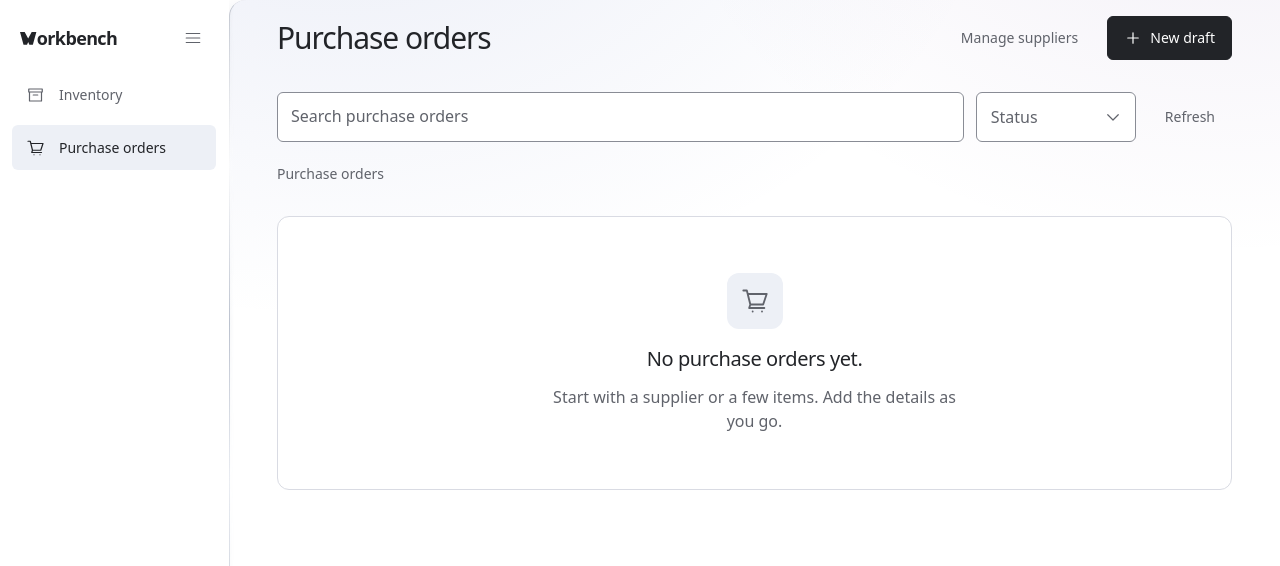
Test: opens purchase orders and replaces a new draft URL after its receipt without losing current-read recovery
Expected: the heading "No purchase orders yet." is shown, [647,345,862,373]
Click the link "New draft". click: x=1170, y=38
box: [1107,16,1232,60]
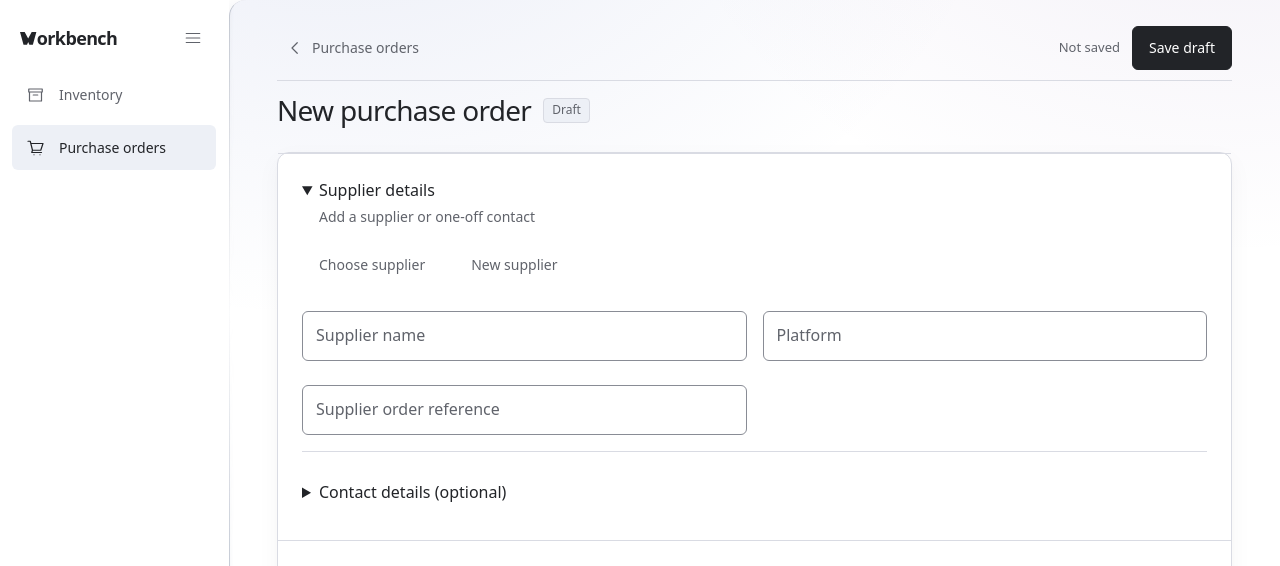
Click the button "Save draft". click: x=1182, y=48
box: [1132,26,1232,70]
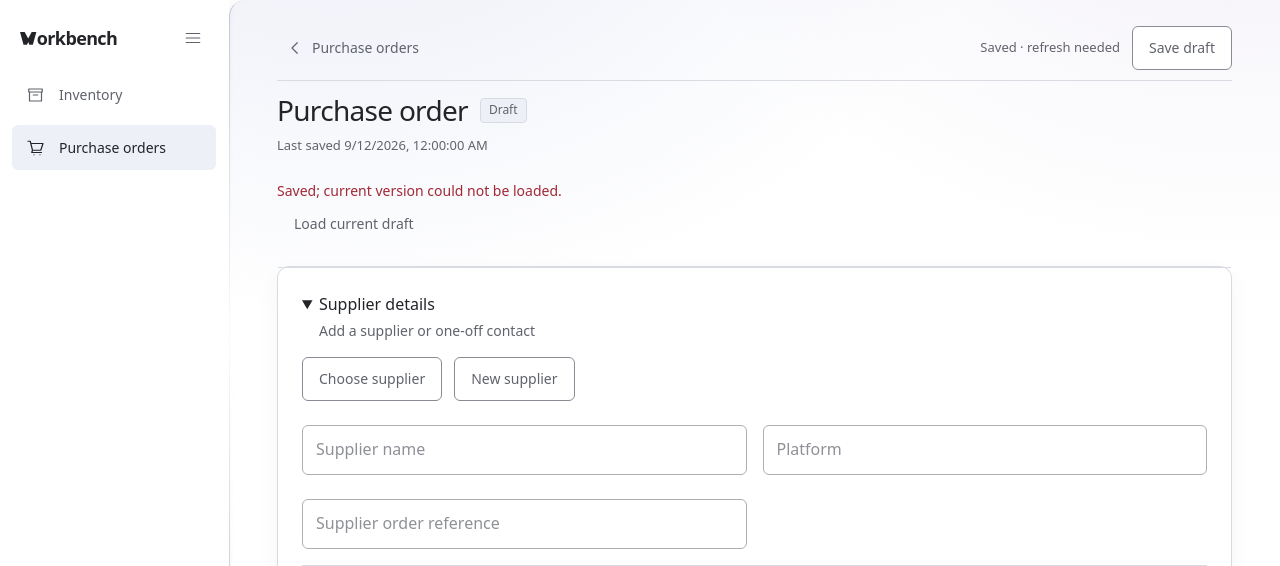
Expected: the text "Saved; current version could not be loaded." is shown, [277,180,562,200]
Click the button "Load current draft". click: x=354, y=224
box: [277,202,431,246]
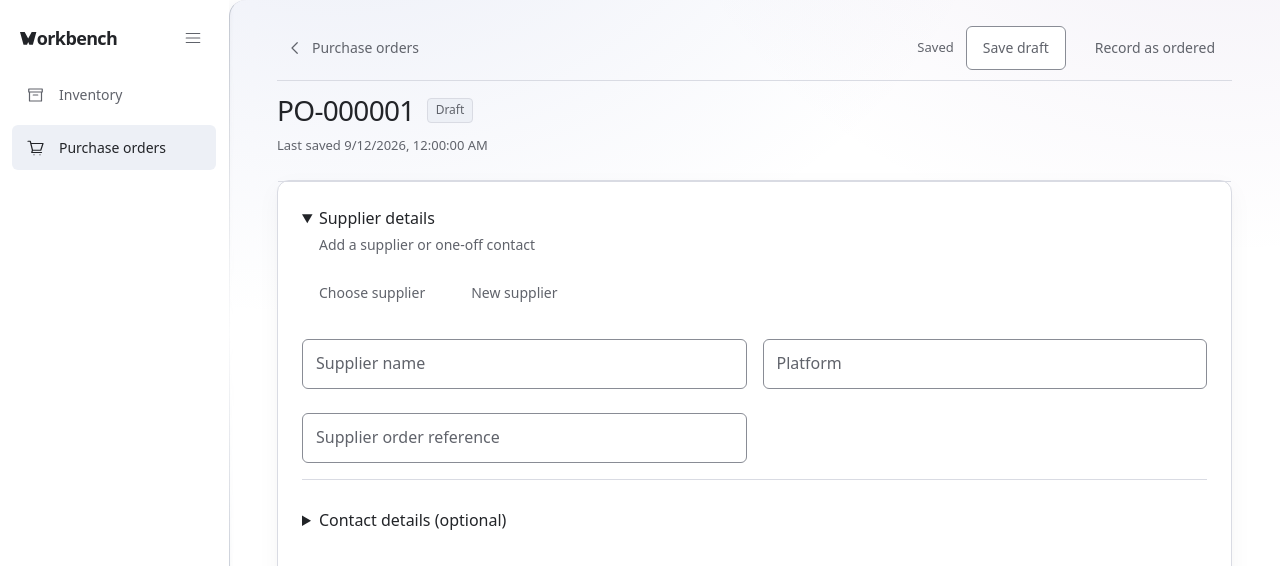
Click the button with aria-label "Back to purchase orders". click: x=353, y=48
box: [277,26,428,70]
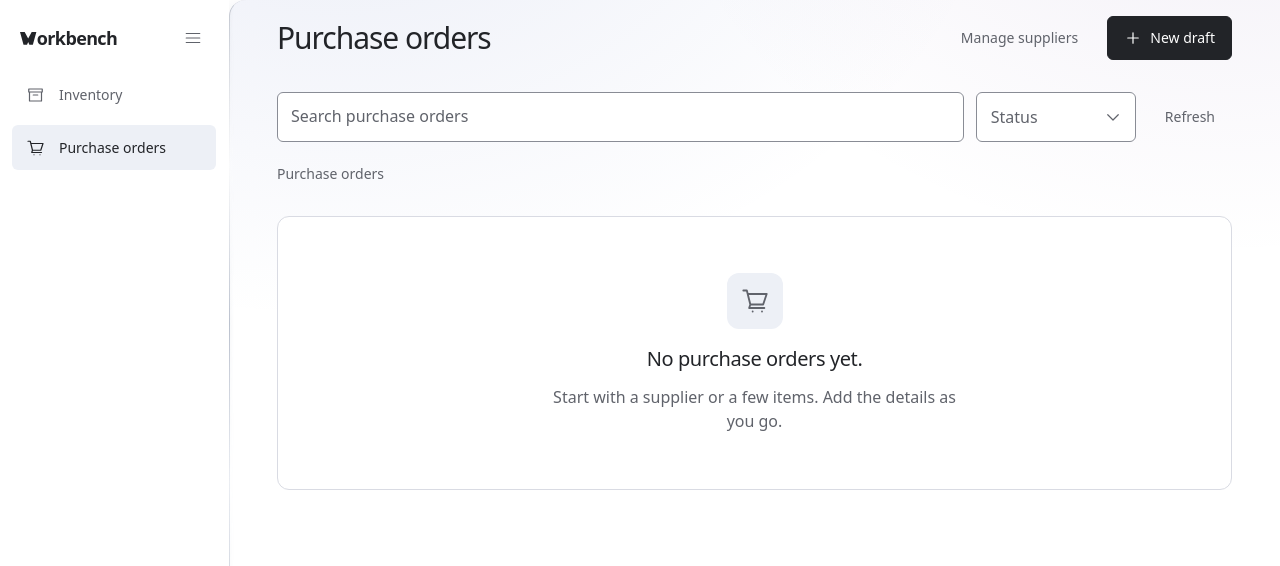
Expected: the heading "No purchase orders yet." is shown, [647,345,862,373]
